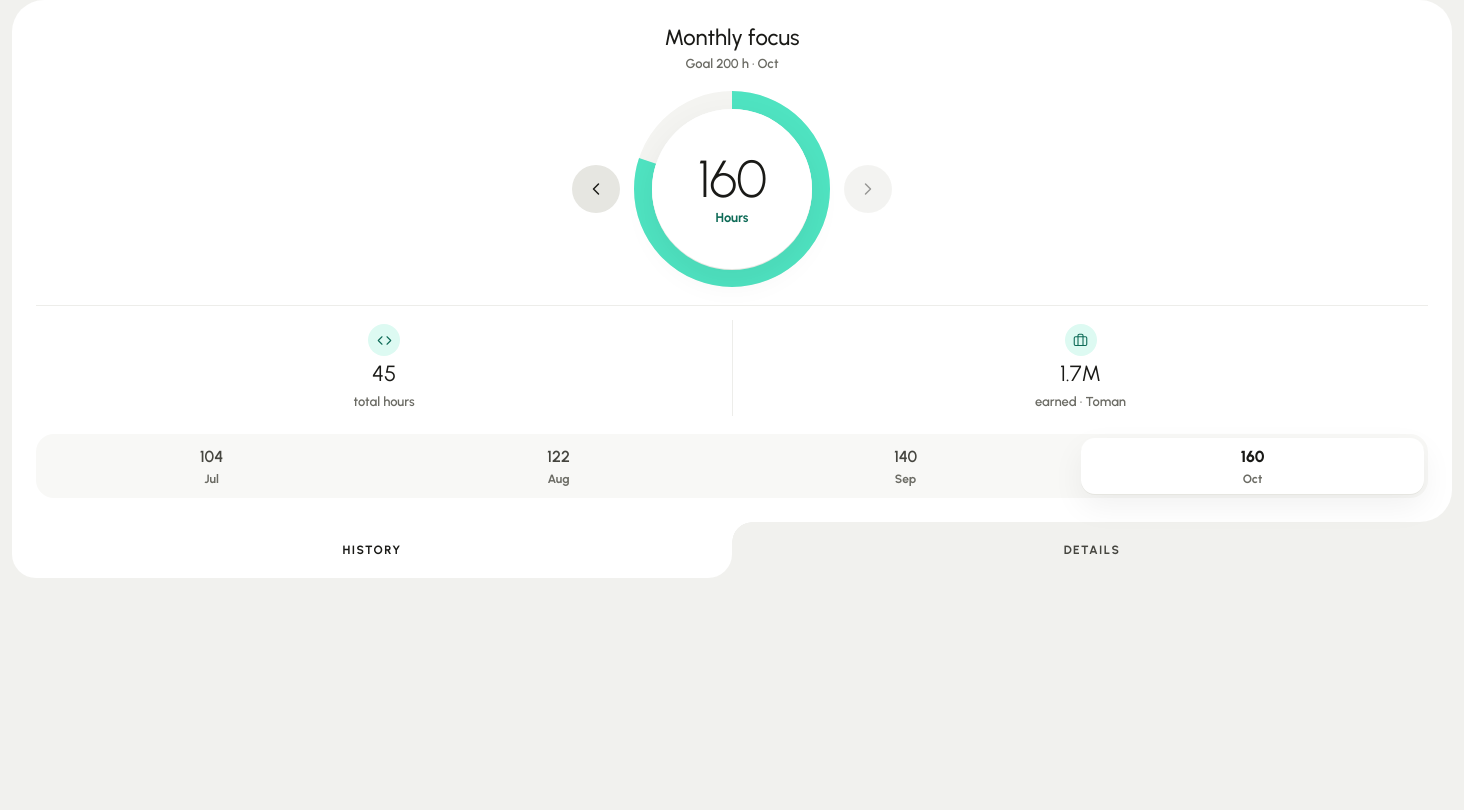
Scenario: RingCard › switches to the details tab and merges it into the card
What coordinates should you click on to do the following:
click the tab "Details"
I would click on:
 (1092, 550)
Its box is left=732, top=522, right=1452, bottom=578.
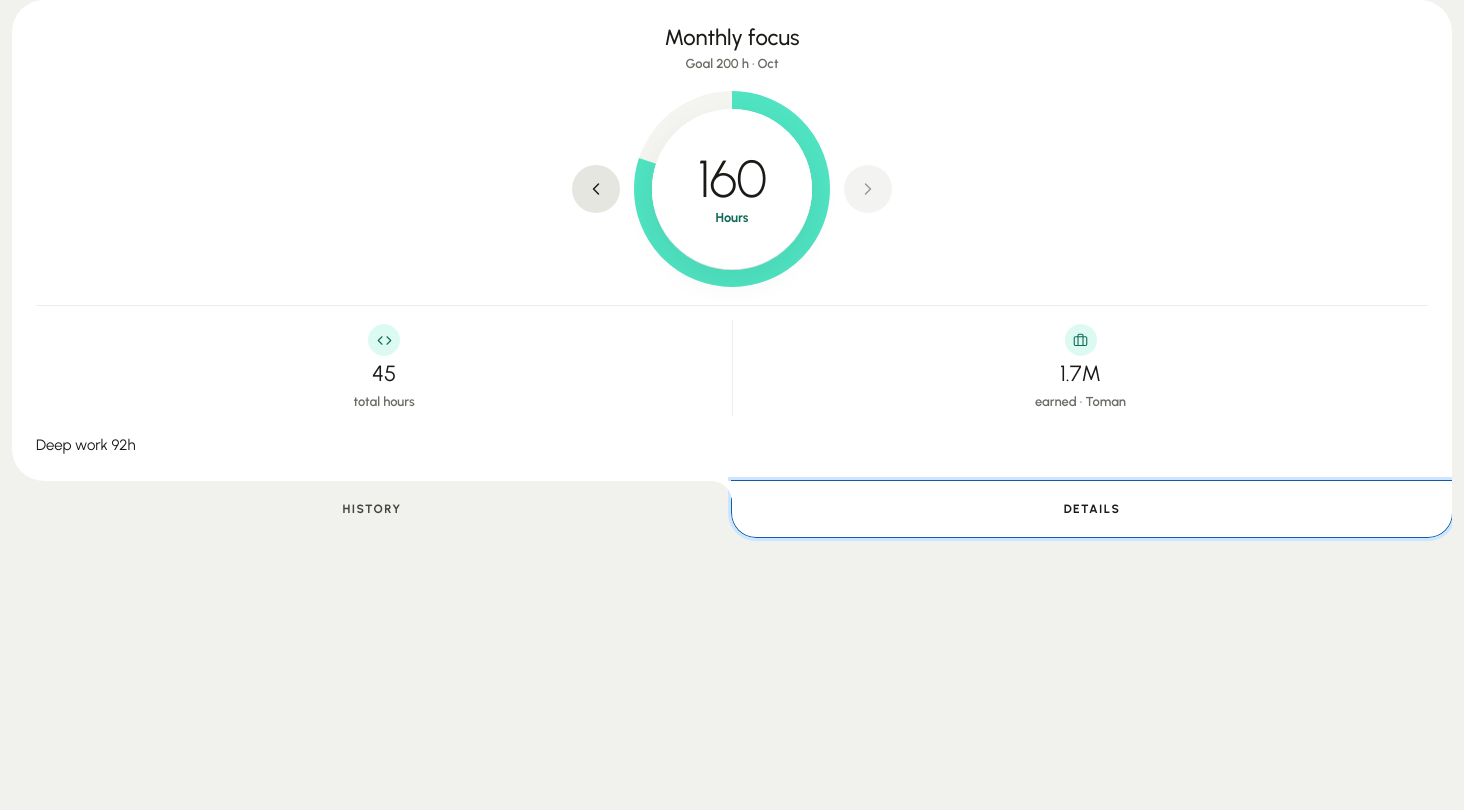
Check: the panel reads "Deep work 92h", box left=36, top=436, right=136, bottom=454
Check: the element "Period" is gone
